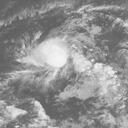cyclone: (34, 37, 69, 68)
